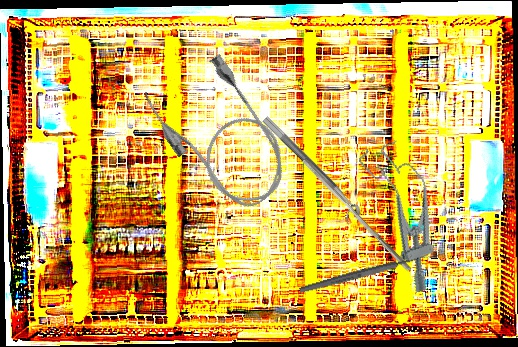Cannula: (137, 44, 303, 227)
Fixation Ring: (253, 115, 364, 226)
Pusher: (297, 157, 417, 273)
Speculum: (355, 134, 459, 297)
Surgical Spoon: (298, 249, 439, 295)
